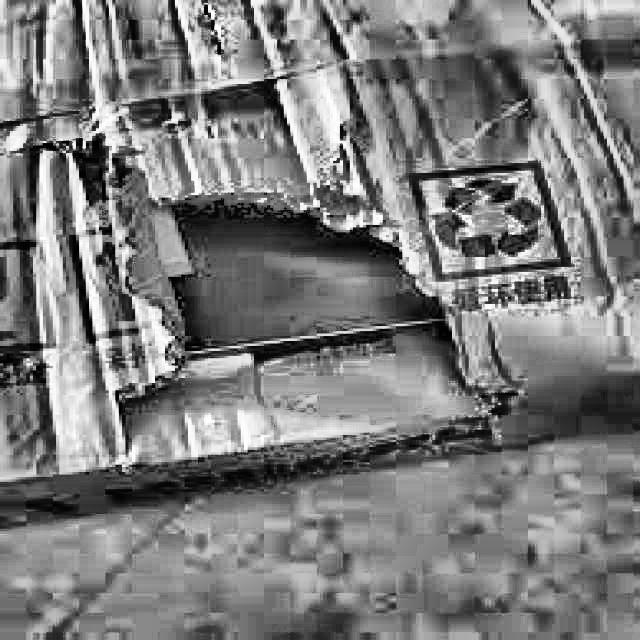box: (0, 0, 640, 529)
hole: (118, 171, 488, 425)
